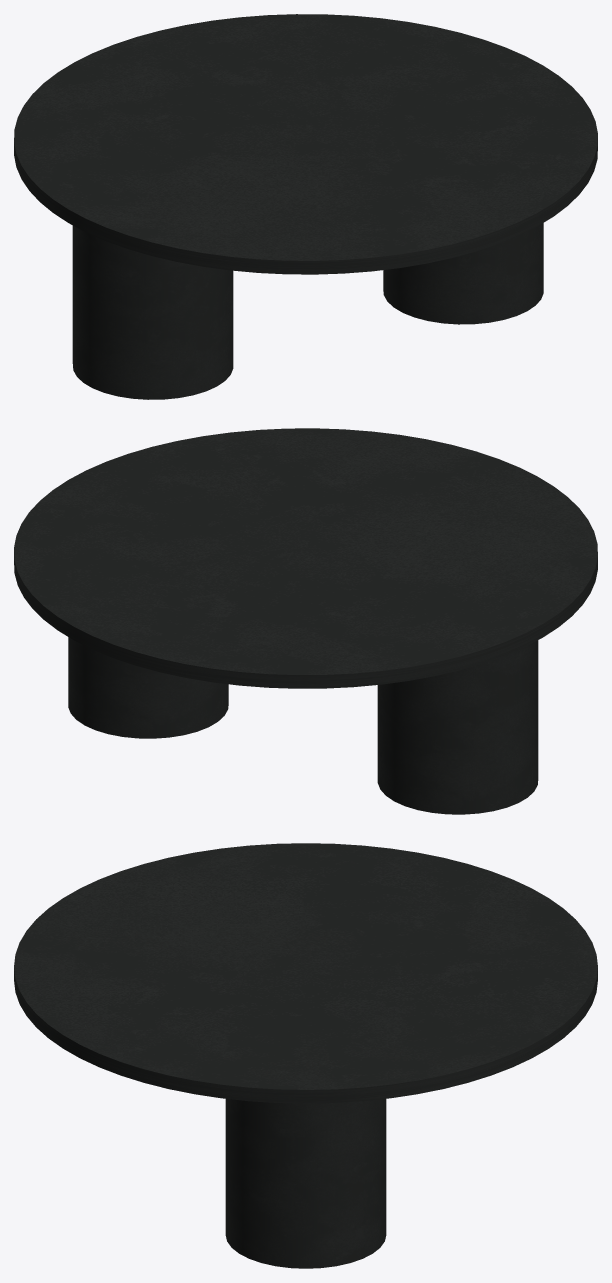
The model's file is darknight_round_standard_stream.glb.
3 views of the same model, one above another, from view 1: azimuth 30°, elevation 25°; view 2: azimuth 150°, elevation 25°; view 3: azimuth 270°, elevation 25° (orthographic).
Parts seen in each view (by area): view 1: darknight_roundstandard_stream; view 2: darknight_roundstandard_stream; view 3: darknight_roundstandard_stream.
Part boxes in pixels (x1,y1,x2,y2): darknight_roundstandard_stream: [14, 14, 597, 399]; darknight_roundstandard_stream: [14, 428, 597, 814]; darknight_roundstandard_stream: [14, 843, 597, 1268].
Size of the model in its own units: 6.97 by 2.52 by 6.97.
1 material, 1 textured.
